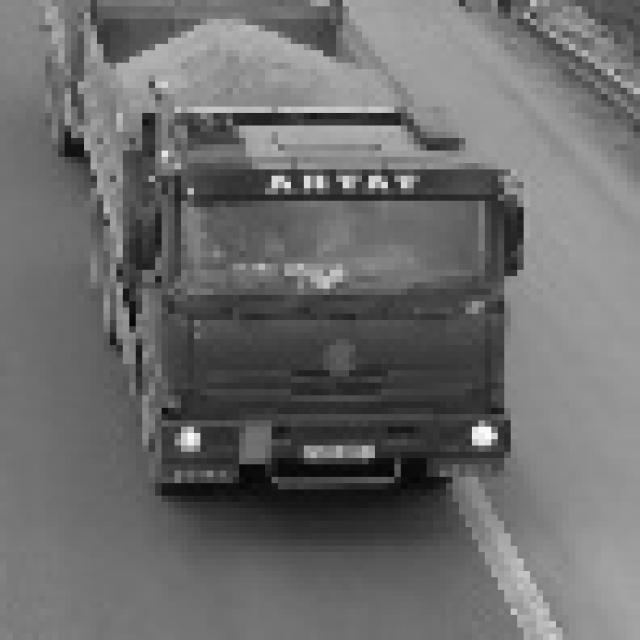truck: (39, 0, 518, 496)
